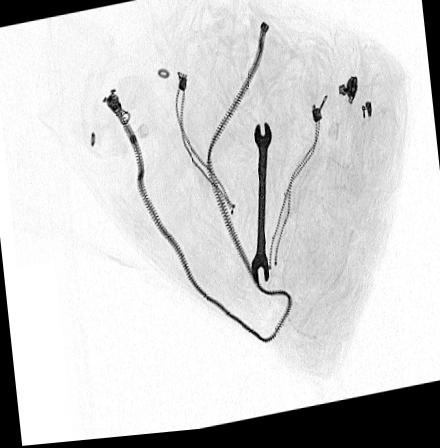Wrench: (249, 123, 273, 293)
